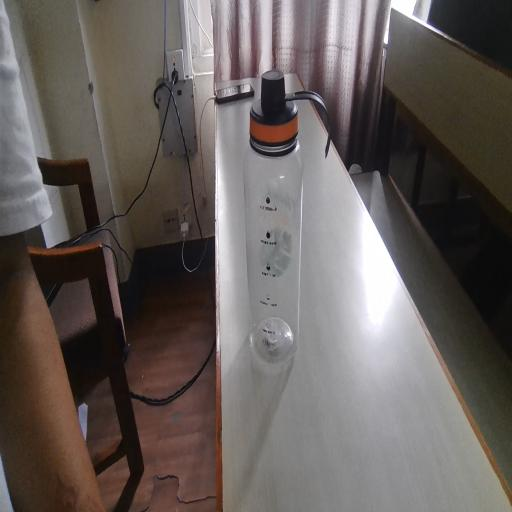Bottle: (237, 91, 325, 352)
